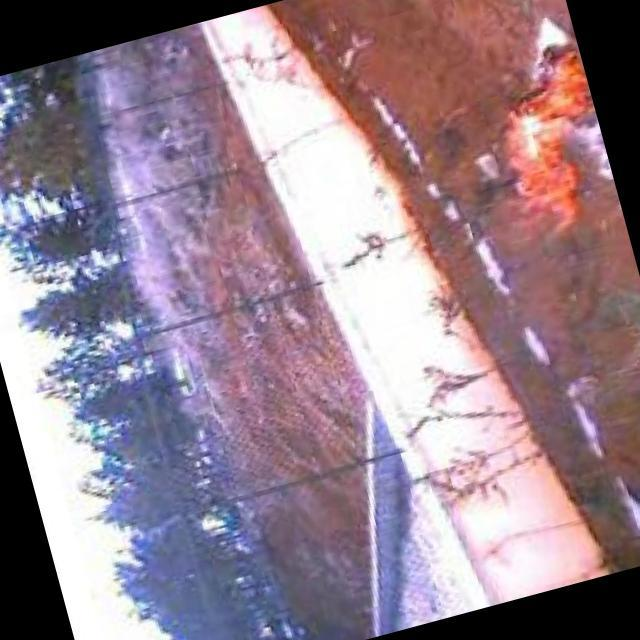Fire: (470, 32, 626, 251)
